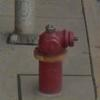Hydrant: (19, 18, 79, 95)
